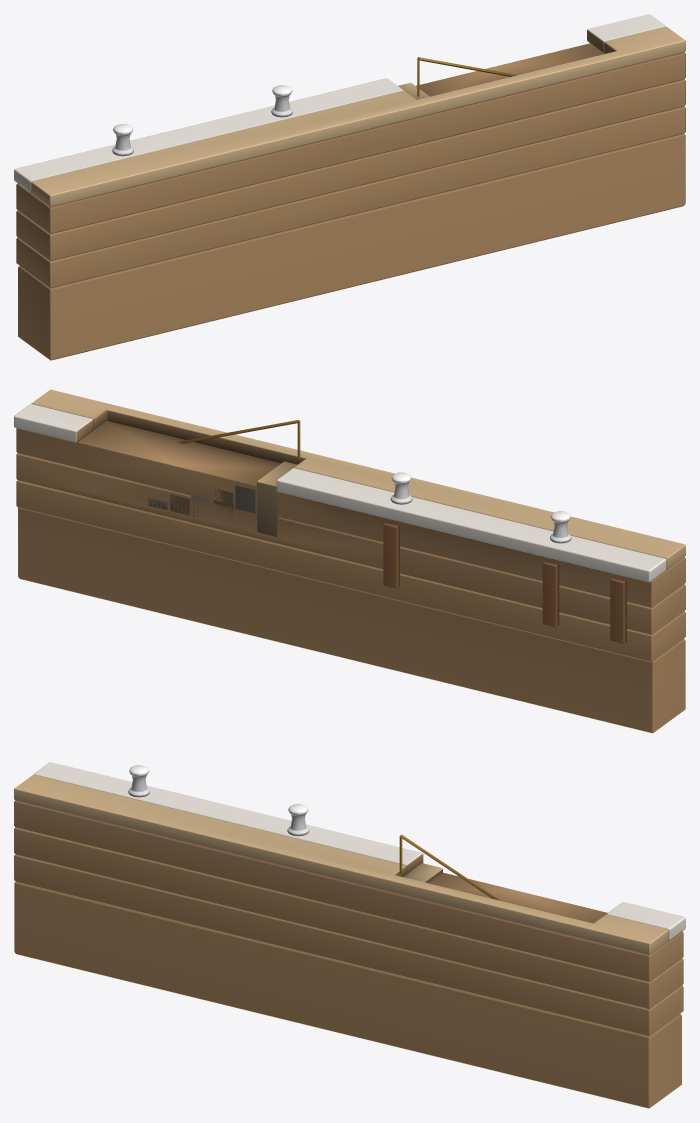
Rendered from quay_straight.fbx.
The picture shows the model from 3 angles, top to bottom: view 1: azimuth 30°, elevation 25°; view 2: azimuth 150°, elevation 25°; view 3: azimuth 330°, elevation 25°; orthographic projection.
Parts seen in each view (by area): view 1: quay_straight; view 2: quay_straight; view 3: quay_straight.
Part boxes in pixels (left/top/right/bottom): quay_straight: left=14, top=14, right=685, bottom=360; quay_straight: left=14, top=389, right=685, bottom=733; quay_straight: left=14, top=762, right=685, bottom=1108.
Bounding box in the file's own units: 16 × 4.93 × 1.66.
